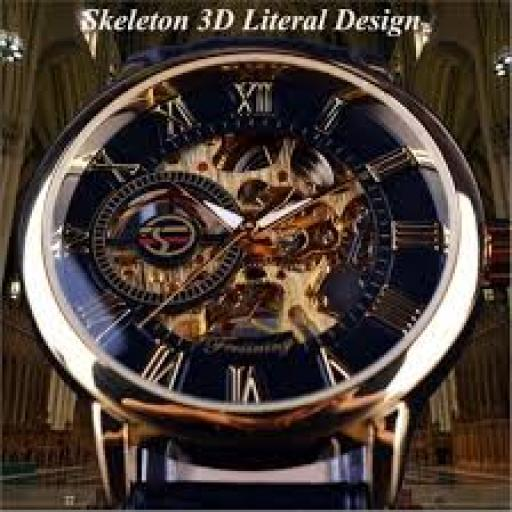KolSaati: (3, 42, 497, 500)
